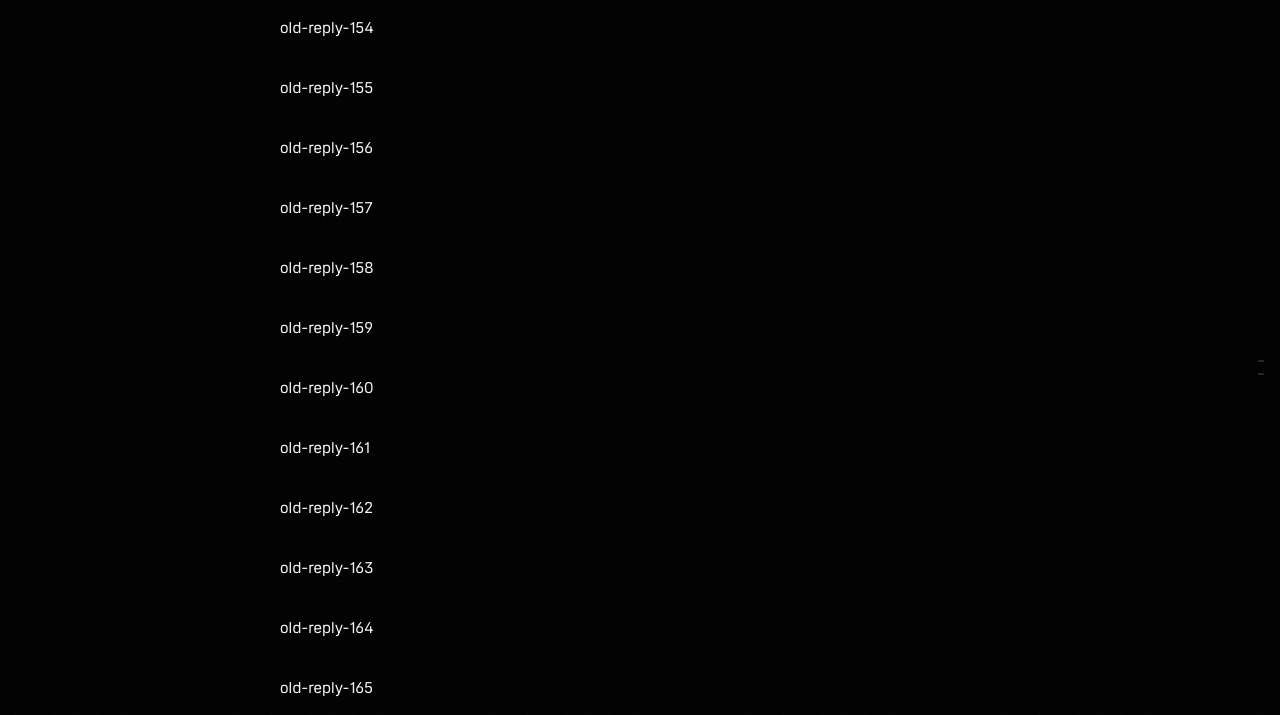
Test case: MessagesTimeline HistoryTicks integration › expands the hidden older window and scrolls to the mounted [data-history-key] element after requestAnimationFrame
The image size is (1280, 715).
(page scrolled)
Expected: the text "Ancient first prompt" is not shown
Step 1. Click the button named "Ancient first prompt" → (1254,360), box [1244,354,1264,366]
(page scrolled)
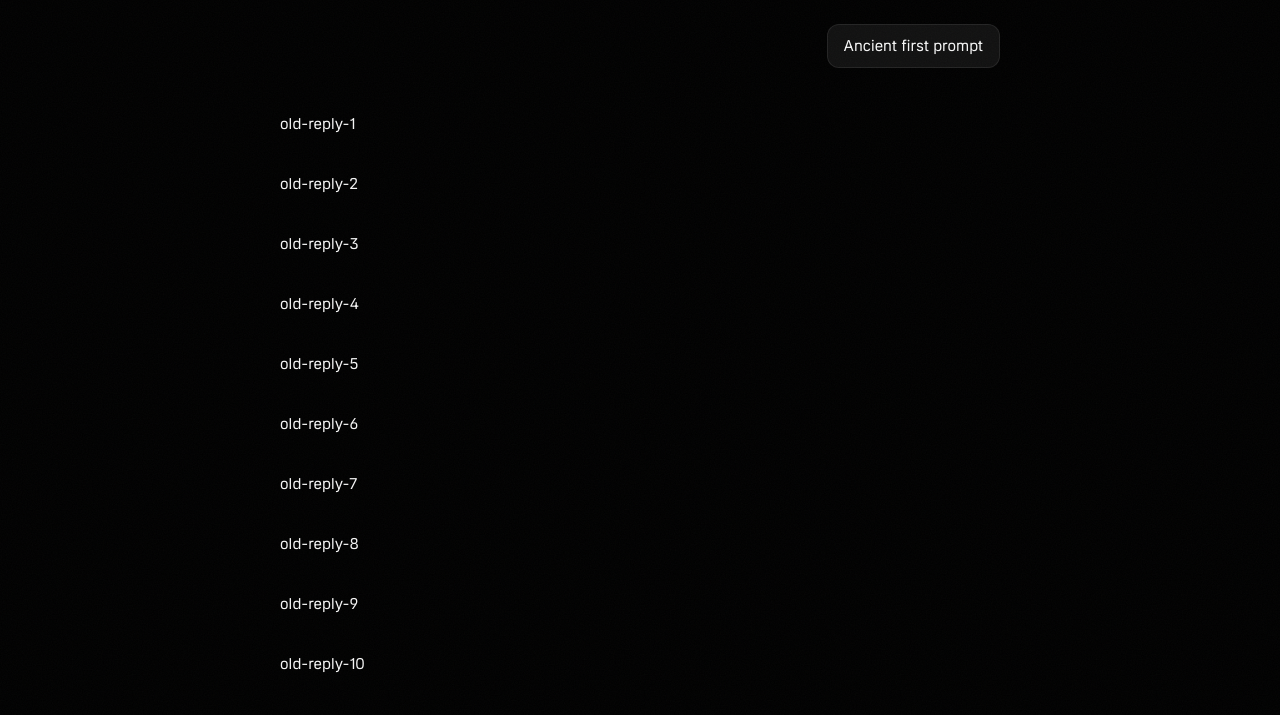
Expected: the element showing "Ancient first prompt" is shown, [827,24,1000,68]
Expected: the text "Ancient first prompt" is shown, [844,35,983,57]
